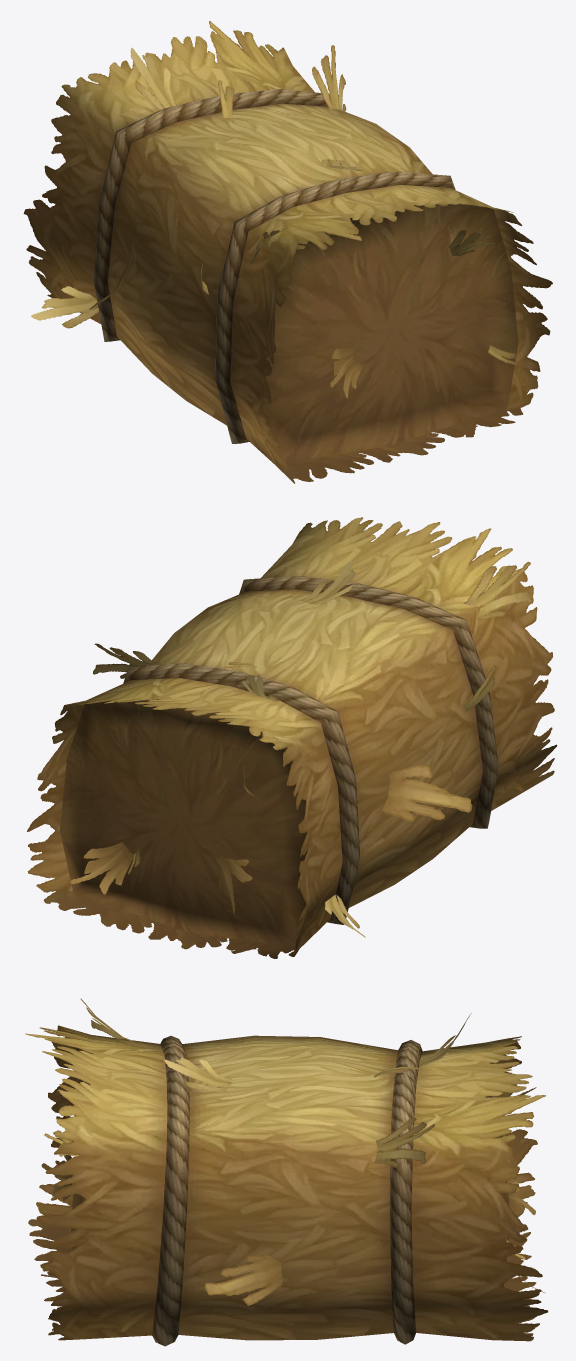
3 views of the same model, one above another, from view 1: azimuth 30°, elevation 25°; view 2: azimuth 150°, elevation 25°; view 3: azimuth 270°, elevation 25° (orthographic). The views are drawn at different scales.
Size of the model in its own units: 2.1 by 1.48 by 2.76.
1 material, 1 textured.
